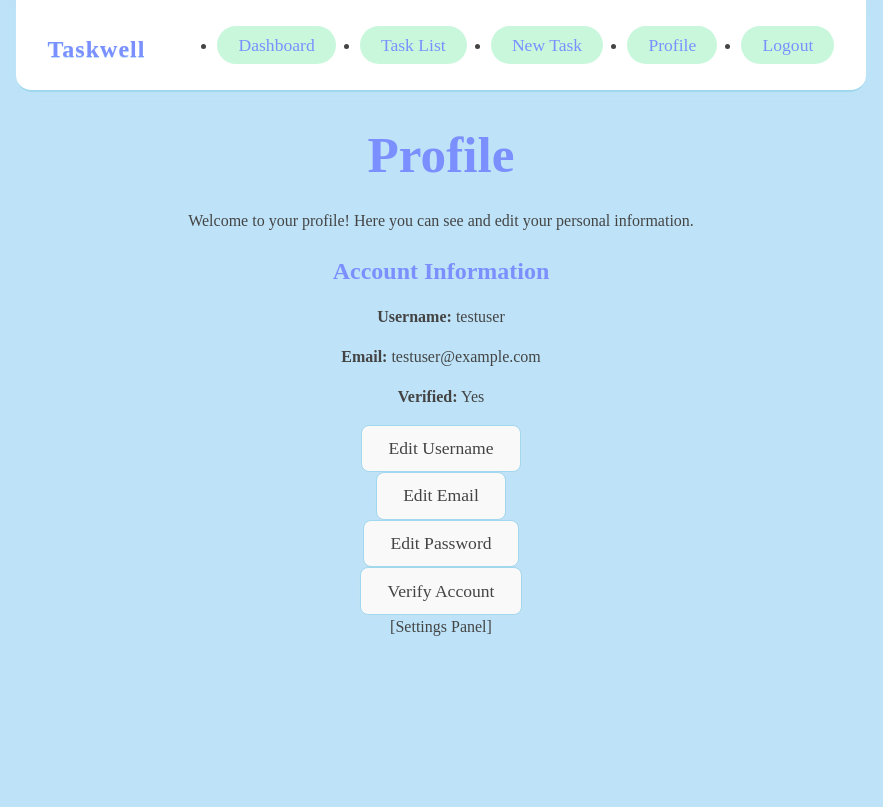
Test case: Handle username change
Click the button "Edit Username" at (441, 448), box [361,424,521,472]
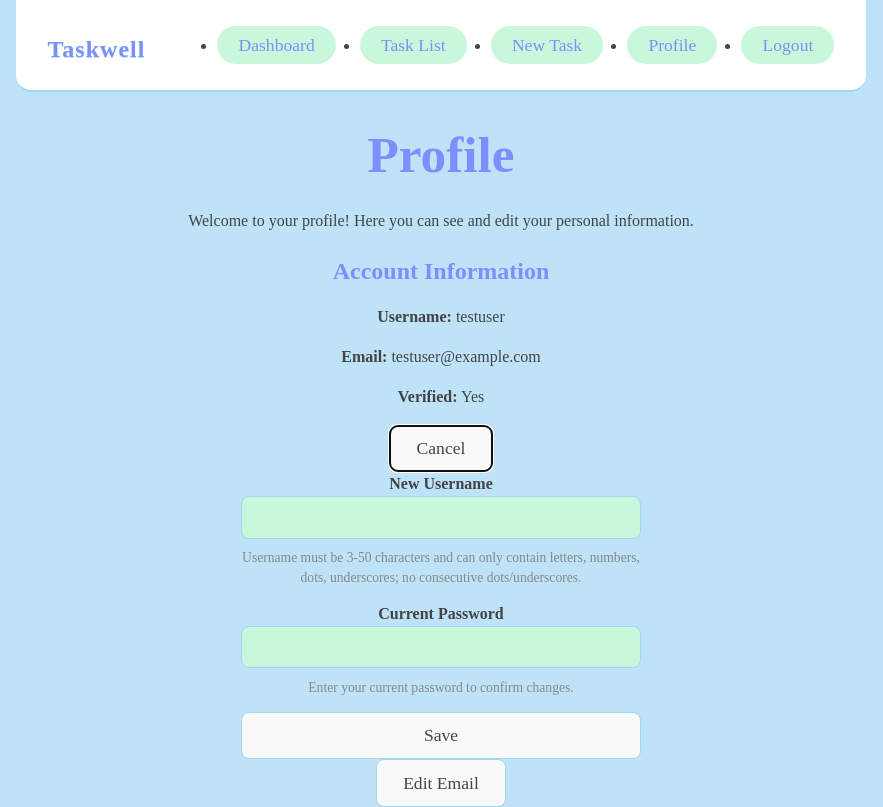
Type "newusername" into the field labelled "New Username" at (441, 517), box [241,496,641,538]
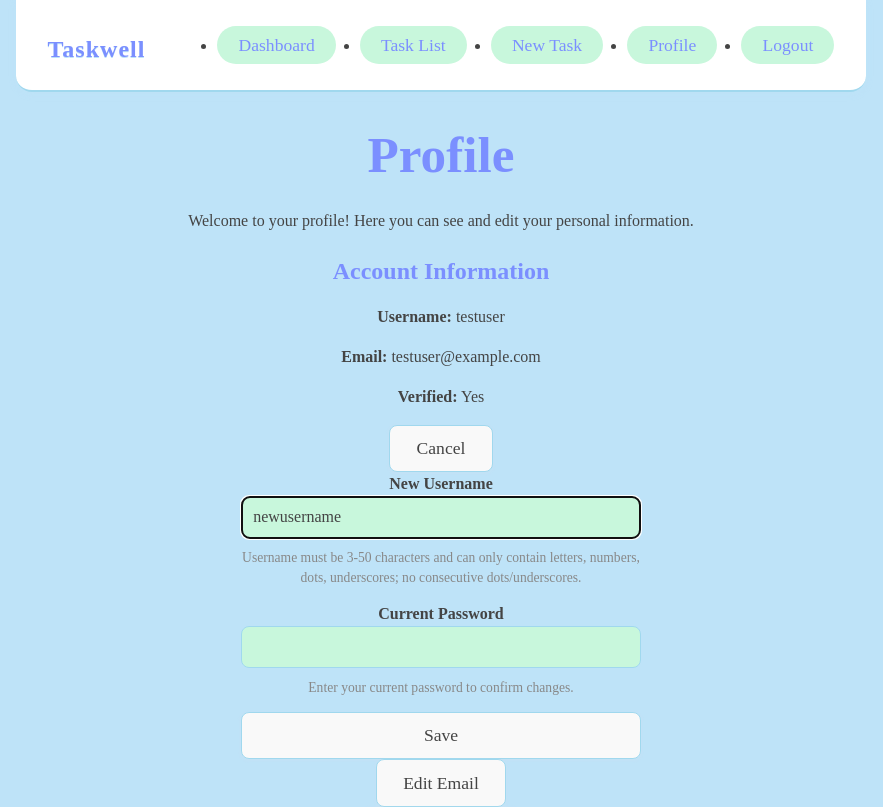
Type "currentpassword" into the password field labelled "Current Password" at (441, 647), box [241,626,641,668]
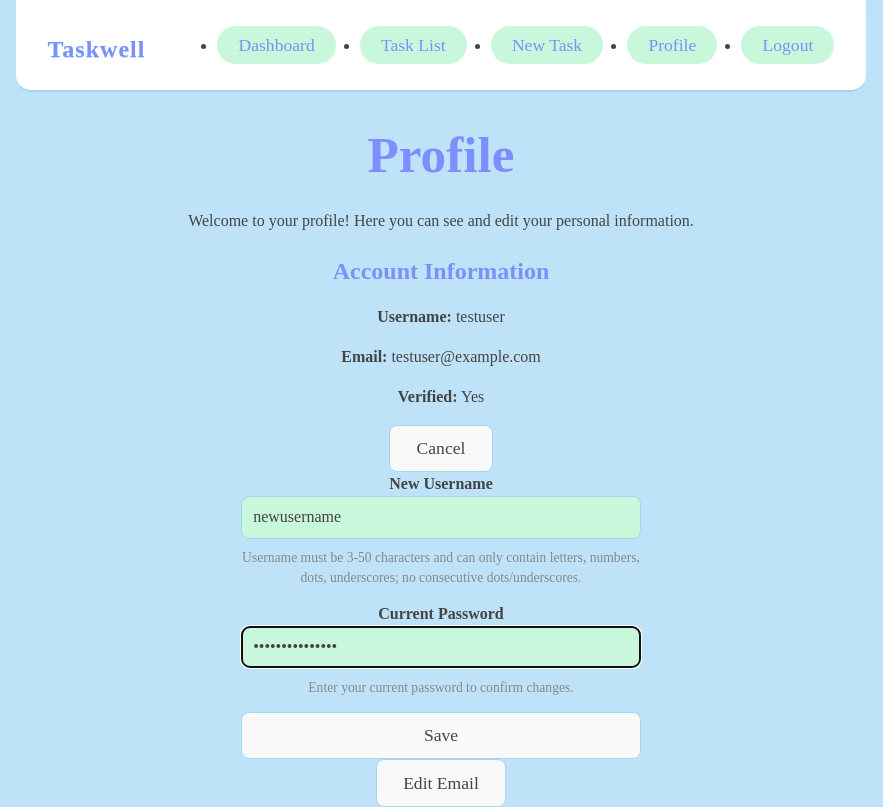
Click the button "Save" at (441, 735), box [241,712,641,759]
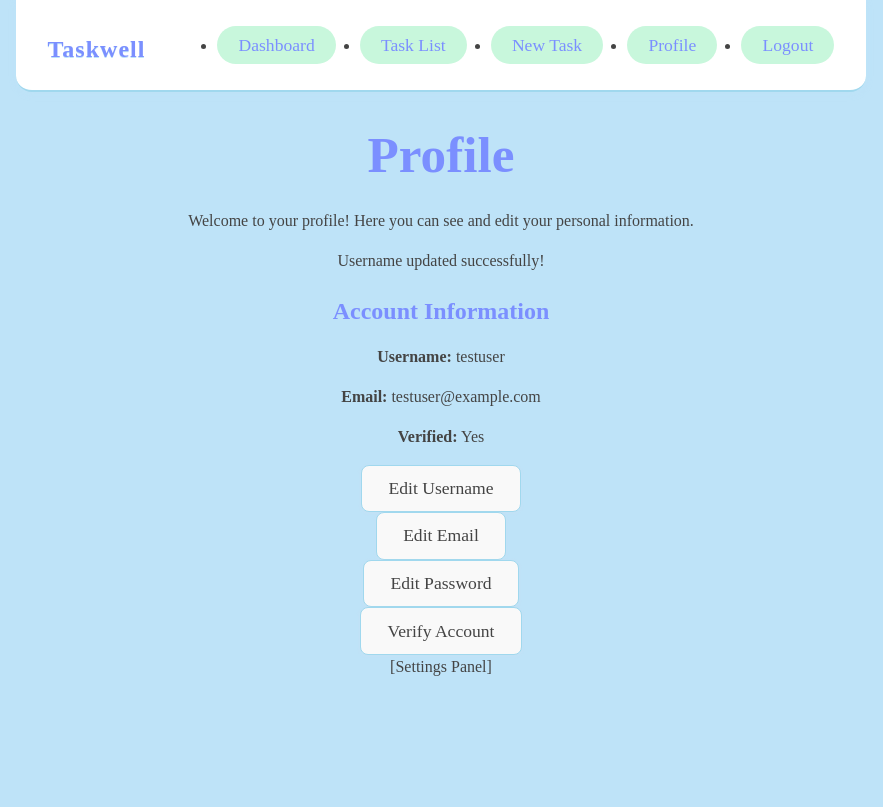
Now the text "Username updated successfully!" is shown, box [338,252,544,269]
